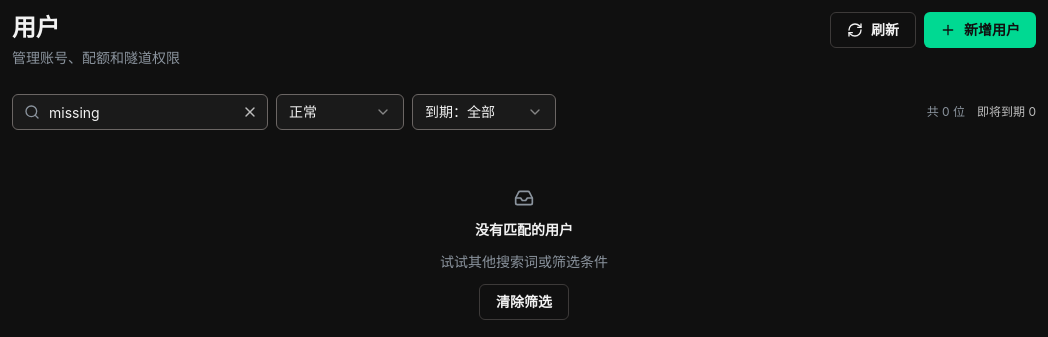
Test case: 搜索空态提供清除筛选，URL状态清除后恢复列表且不重取每个搜索词
Expected: the heading "没有匹配的用户" is shown, 475,220 -> 573,240
Click the button "清除筛选". click: x=524, y=302
box: 479,284 -> 569,320
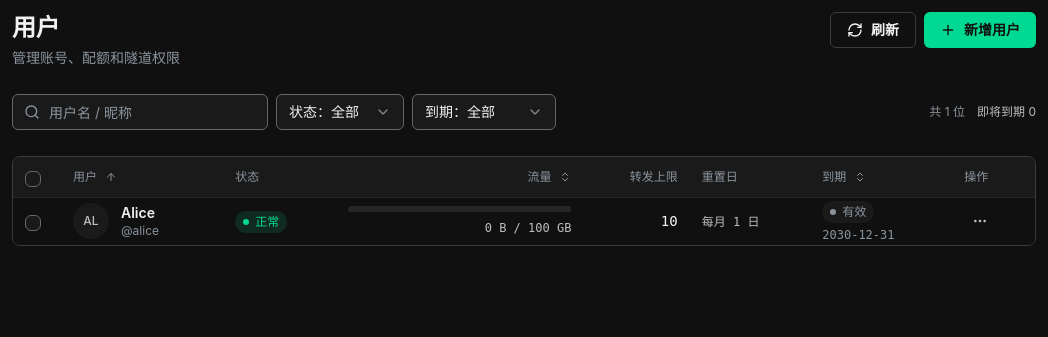
Result: the text "@alice" is shown at 121,223 -> 159,239
